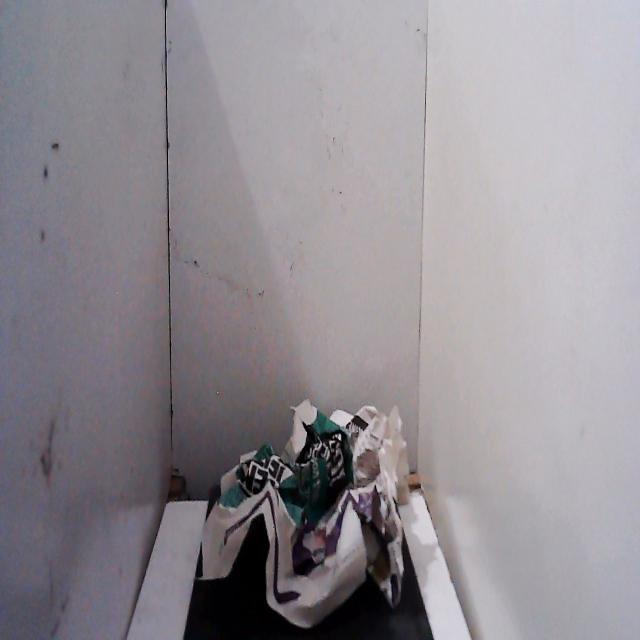papel: (189, 391, 413, 633)
